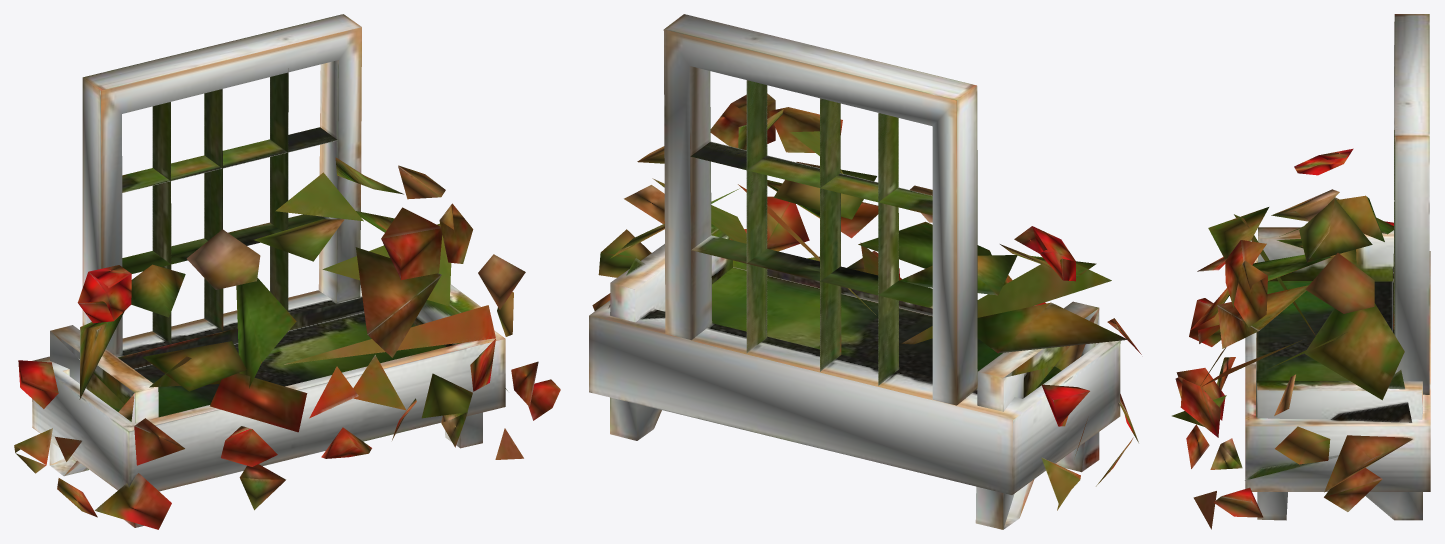
File: flower_box.glb
The picture shows the model from 3 angles, left to right: view 1: azimuth 30°, elevation 25°; view 2: azimuth 150°, elevation 25°; view 3: azimuth 270°, elevation 25°; orthographic projection. The views are drawn at different scales.
Size of the model in its own units: 1.8 by 1.4 by 0.9069.
1 material, 1 textured.
